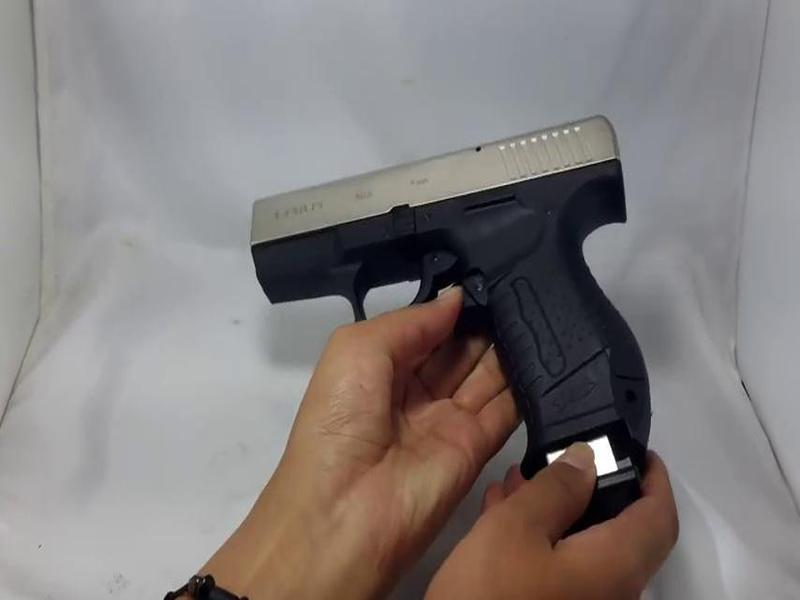Pistola: (228, 104, 671, 512)
